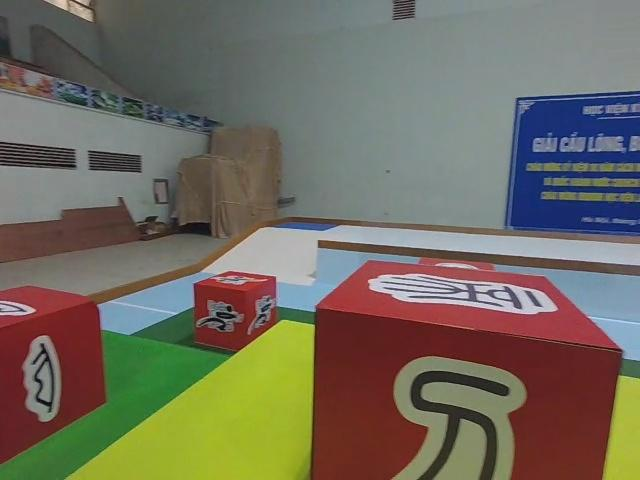R1: (192, 269, 277, 349)
R2 Fake: (311, 260, 624, 480)
R2 Real: (0, 284, 106, 467)
